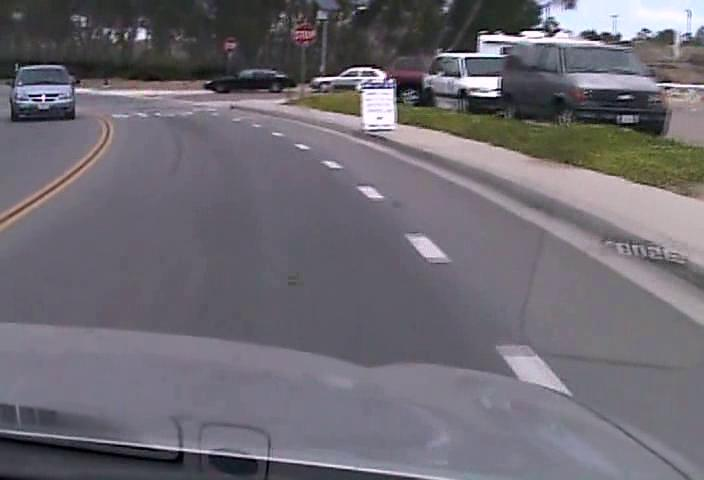stop: (291, 21, 319, 48)
